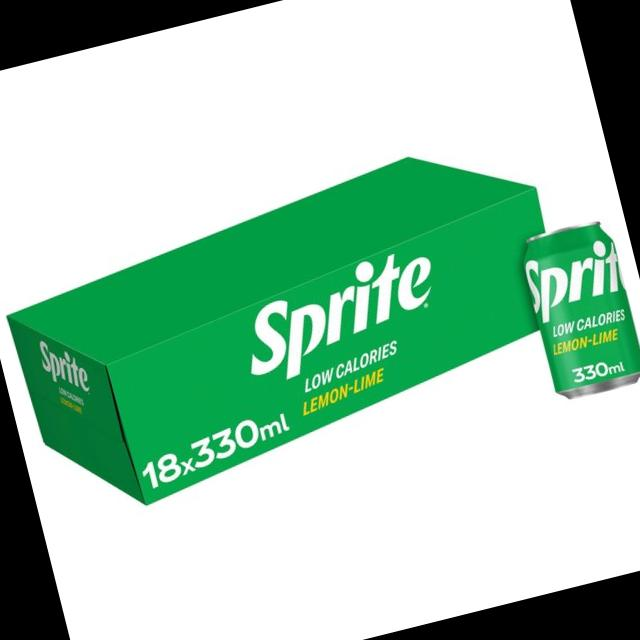sprite: (511, 214, 640, 412)
